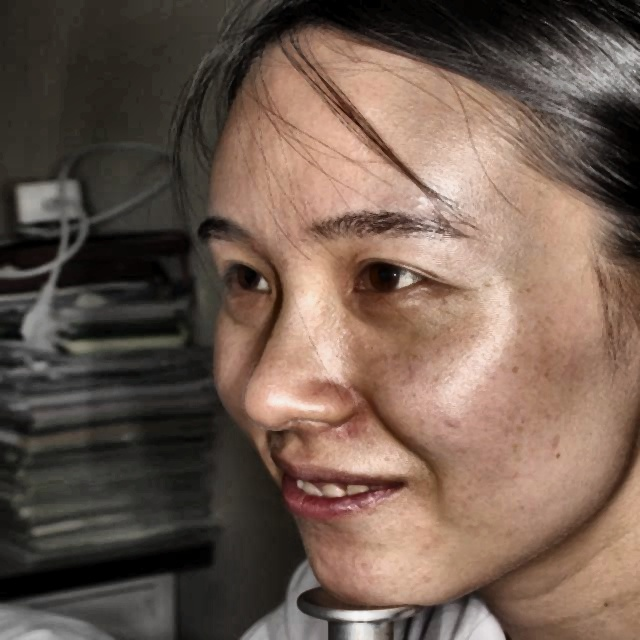comedone: (340, 413, 362, 442)
